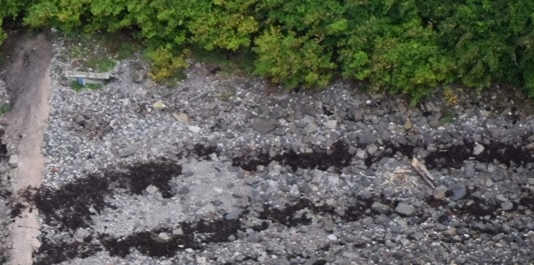straight_bar: (406, 150, 444, 193), (58, 62, 118, 85)
